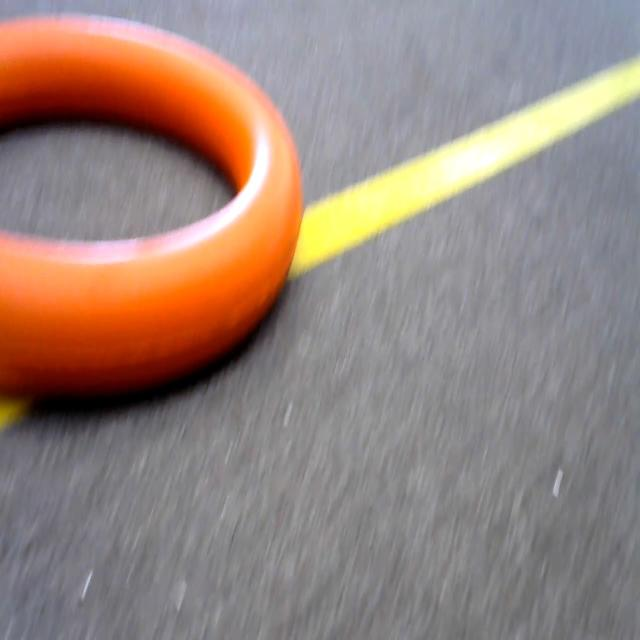note: (0, 0, 308, 415)
